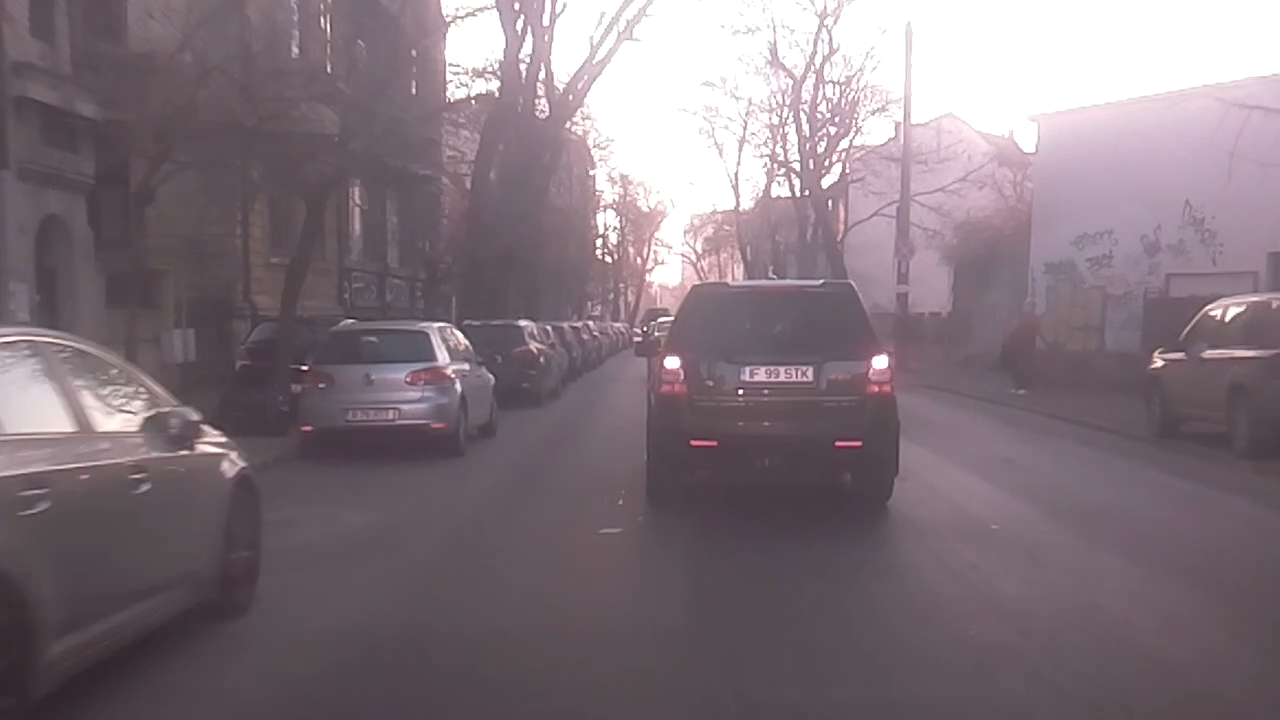license-plate: (736, 363, 816, 384)
